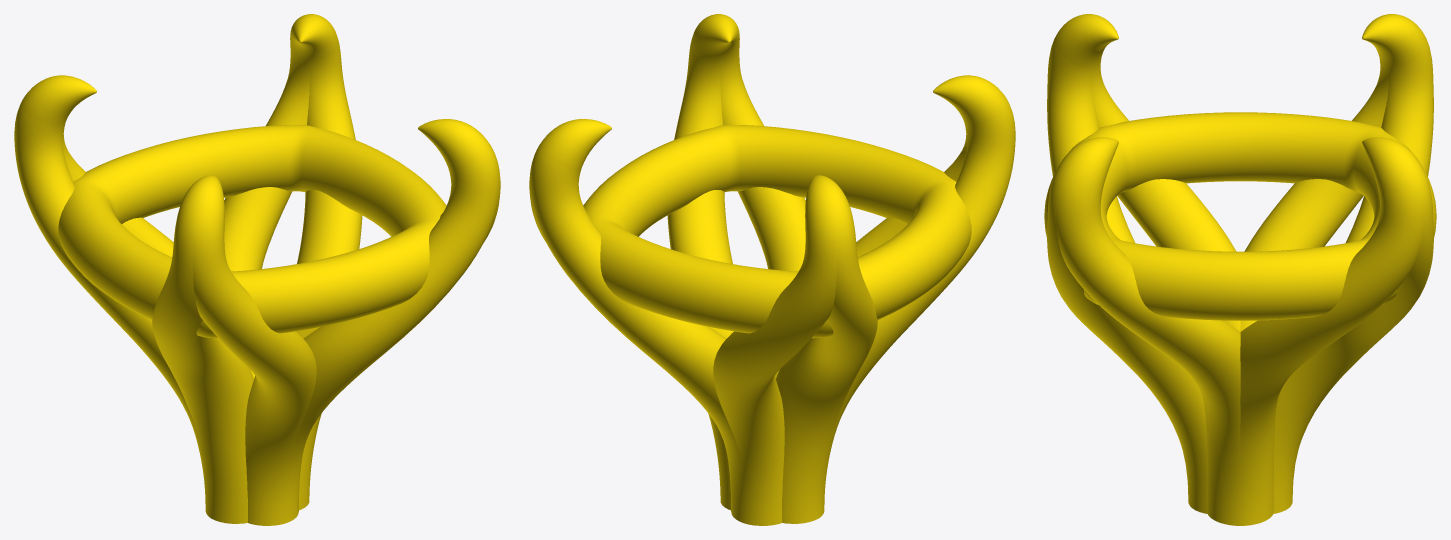
File: CUSHION.glb
3 renders of one model, left to right at view 1: azimuth 30°, elevation 25°; view 2: azimuth 150°, elevation 25°; view 3: azimuth 270°, elevation 25°, orthographic. The views are drawn at different scales.
Visible parts, largest first — view 1: HD-Tulip-Cushion-103dm; view 2: HD-Tulip-Cushion-103dm; view 3: HD-Tulip-Cushion-103dm.
Part boxes in pixels (x1,y1,x2,y2): HD-Tulip-Cushion-103dm: (14, 14, 500, 525); HD-Tulip-Cushion-103dm: (529, 14, 1015, 525); HD-Tulip-Cushion-103dm: (1044, 14, 1436, 525).
Size of the model in its own units: 5.2 by 6.19 by 5.2.
